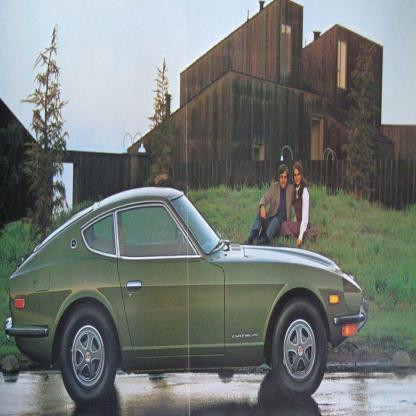Car: (5, 187, 368, 408)
